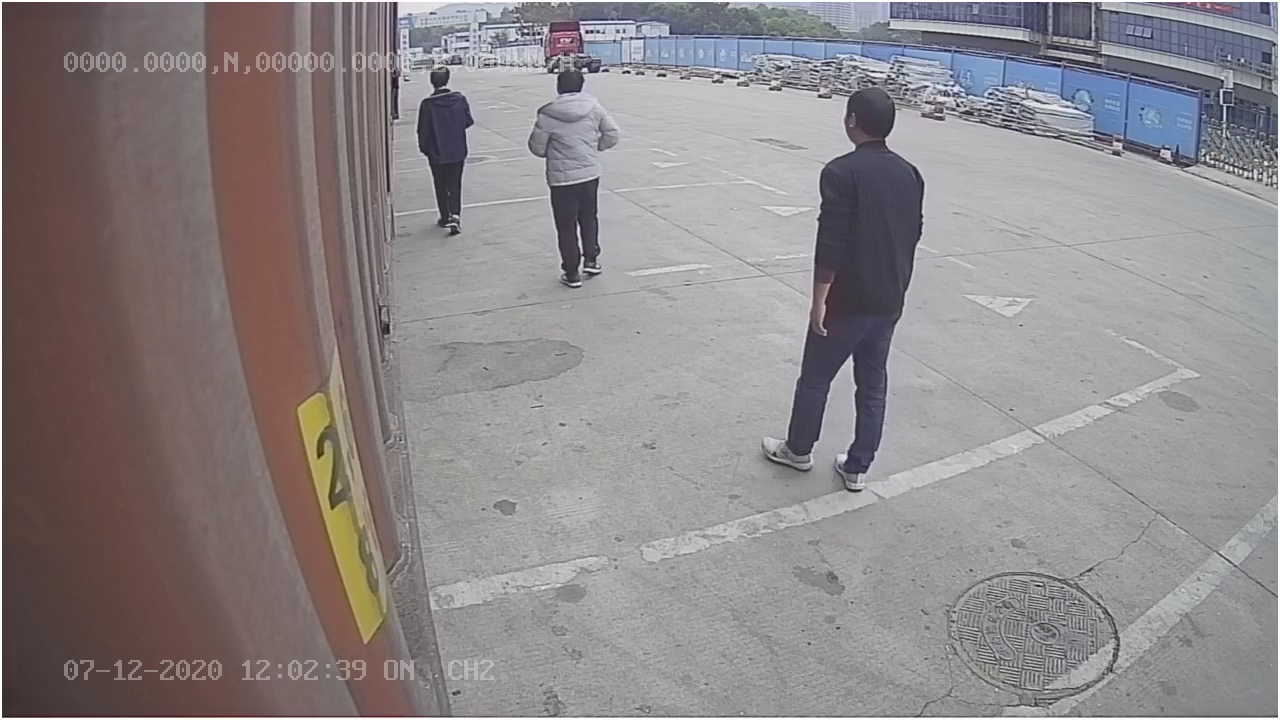person: (757, 82, 931, 495), (526, 63, 622, 289)
